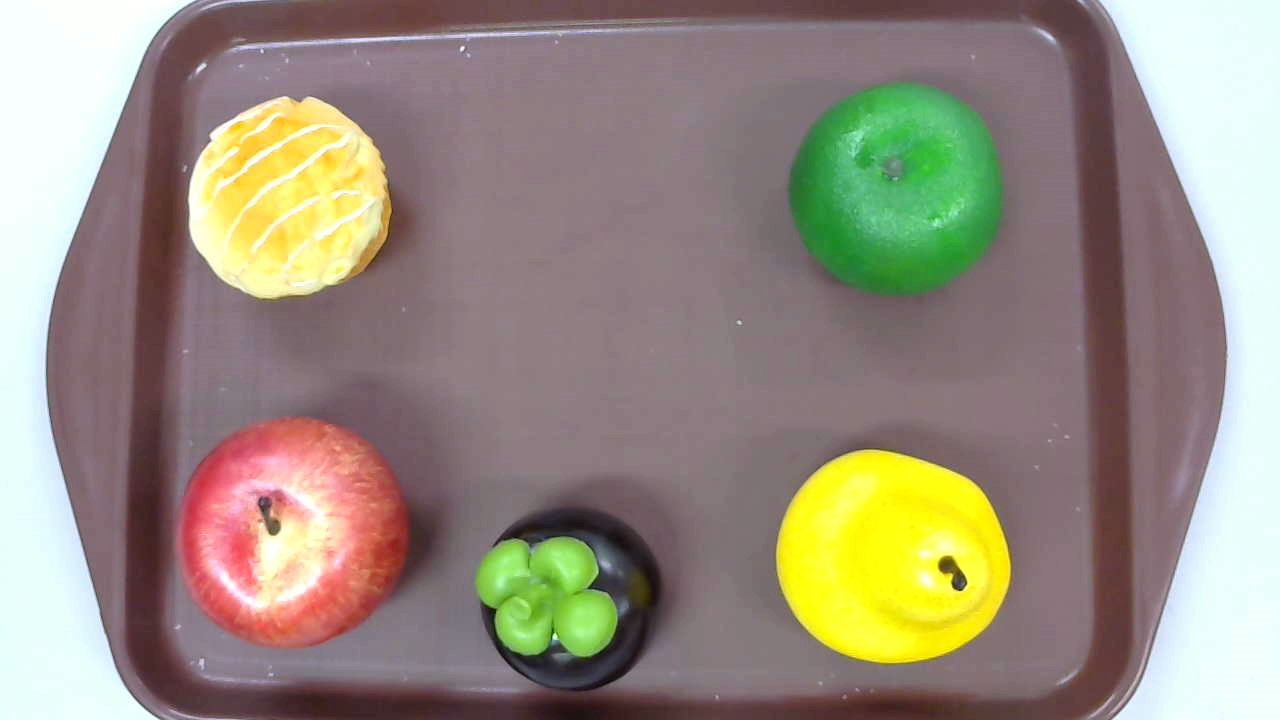cupcake: (188, 97, 391, 301)
green orange: (786, 82, 1003, 300)
mangosteen: (477, 505, 664, 691)
red apple: (175, 417, 409, 647)
yellow pear: (775, 447, 1010, 665)
